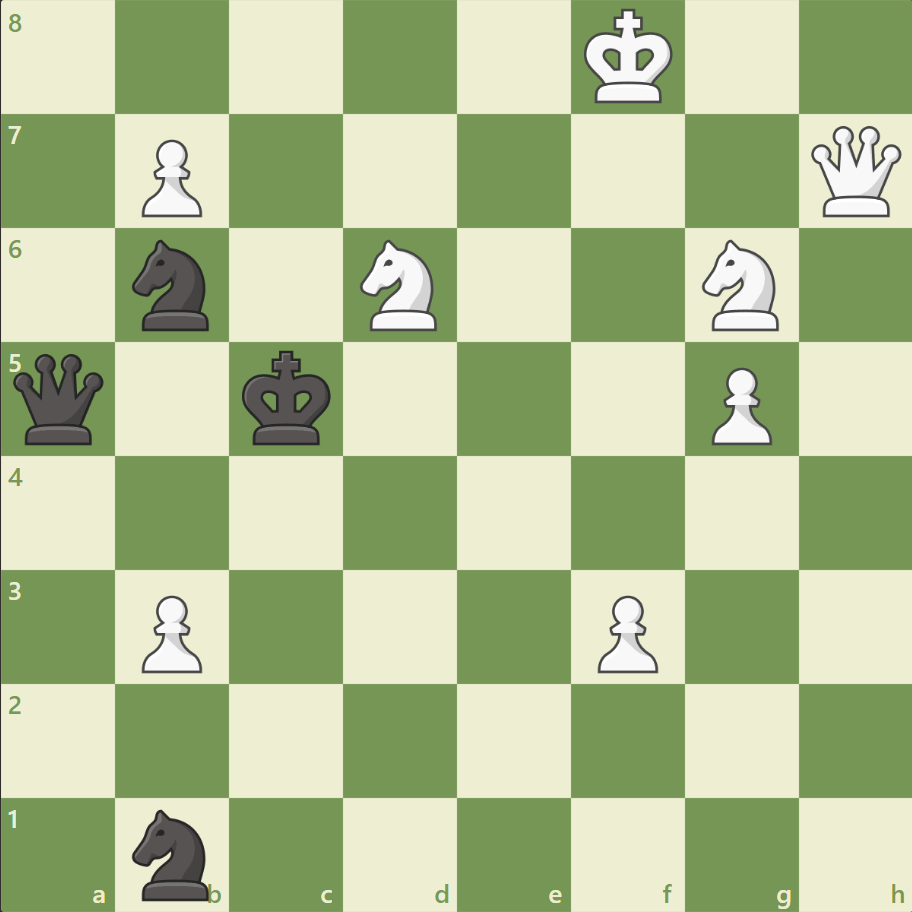K: (579, 4, 679, 112)
N: (351, 234, 449, 337), (692, 234, 789, 337)
P: (133, 132, 208, 223), (701, 359, 776, 450), (133, 586, 208, 677), (588, 586, 662, 677)
Q: (805, 122, 904, 222)
k: (238, 344, 338, 452)
n: (124, 234, 222, 337), (124, 802, 222, 904)
q: (10, 349, 109, 449)
